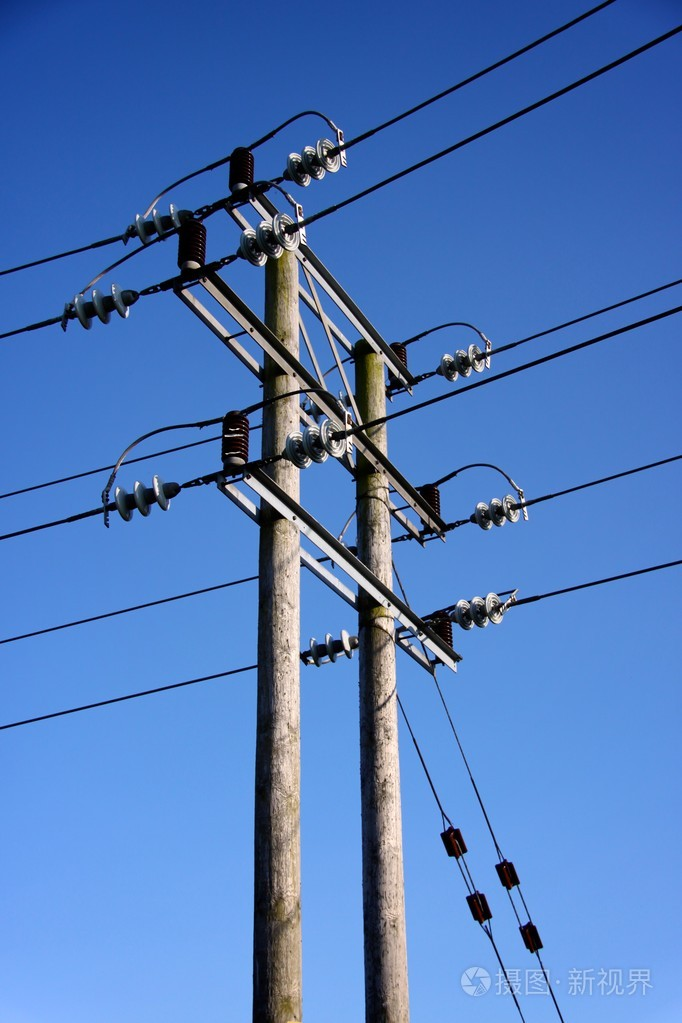insulator: (67, 280, 131, 334), (284, 419, 343, 473), (116, 471, 172, 525), (287, 136, 337, 186), (133, 199, 185, 245), (456, 592, 508, 634), (303, 625, 354, 667), (468, 493, 519, 534), (433, 347, 482, 383)
